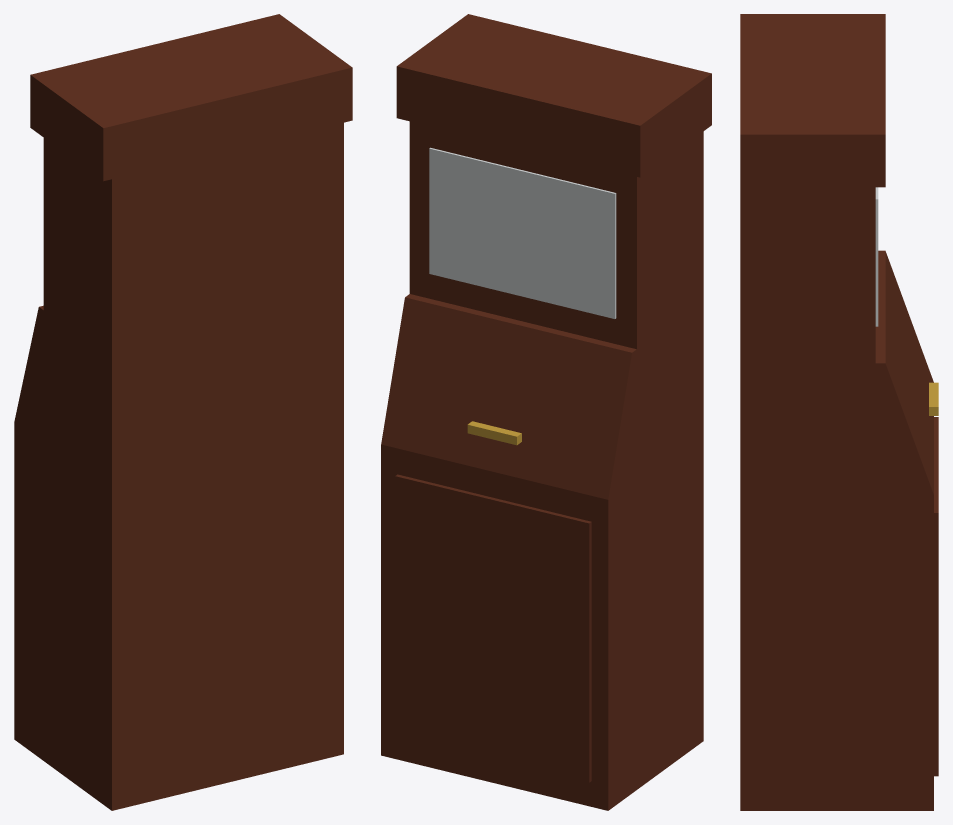
The model's file is parametric-folding_lavatory-1st.glb.
3 renders of one model, left to right at view 1: azimuth 30°, elevation 25°; view 2: azimuth 150°, elevation 25°; view 3: azimuth 270°, elevation 25°, orthographic. The views are drawn at different scales.
Parts seen in each view (by area): view 1: parametric-folding_lavatory-1st; view 2: parametric-folding_lavatory-1st; view 3: parametric-folding_lavatory-1st.
Boxes of the visible parts, <box> form: parametric-folding_lavatory-1st: <box>14,14,352,810</box>; parametric-folding_lavatory-1st: <box>381,14,711,810</box>; parametric-folding_lavatory-1st: <box>740,14,938,810</box>.
Size of the model in its own units: 0.59 by 1.55 by 0.41.
